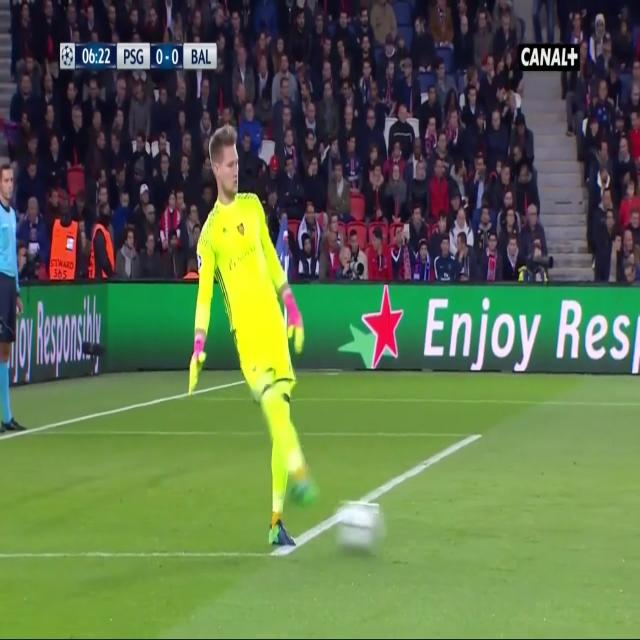Ball: (334, 496, 384, 558)
Goalkeeper: (186, 120, 324, 550)
Referee: (0, 161, 27, 439)
